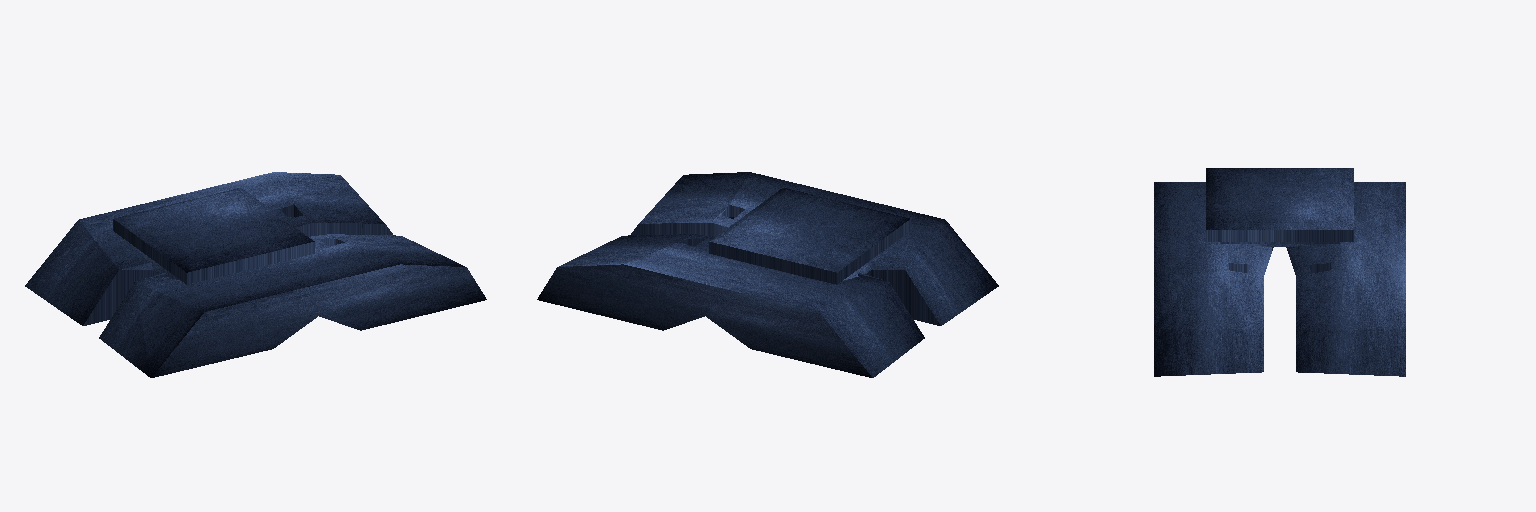
3 views of the same model, side by side, from view 1: azimuth 30°, elevation 25°; view 2: azimuth 150°, elevation 25°; view 3: azimuth 270°, elevation 25° (orthographic).
Visible parts, largest first — view 1: pCube1; view 2: pCube1; view 3: pCube1.
Part boxes in pixels (bbox=[...]): pCube1: bbox=[25, 172, 486, 377]; pCube1: bbox=[537, 172, 998, 377]; pCube1: bbox=[1154, 168, 1405, 376].
Size of the model in its own units: 103 by 23.15 by 67.25.
Materials: 1 (1 with a texture image).